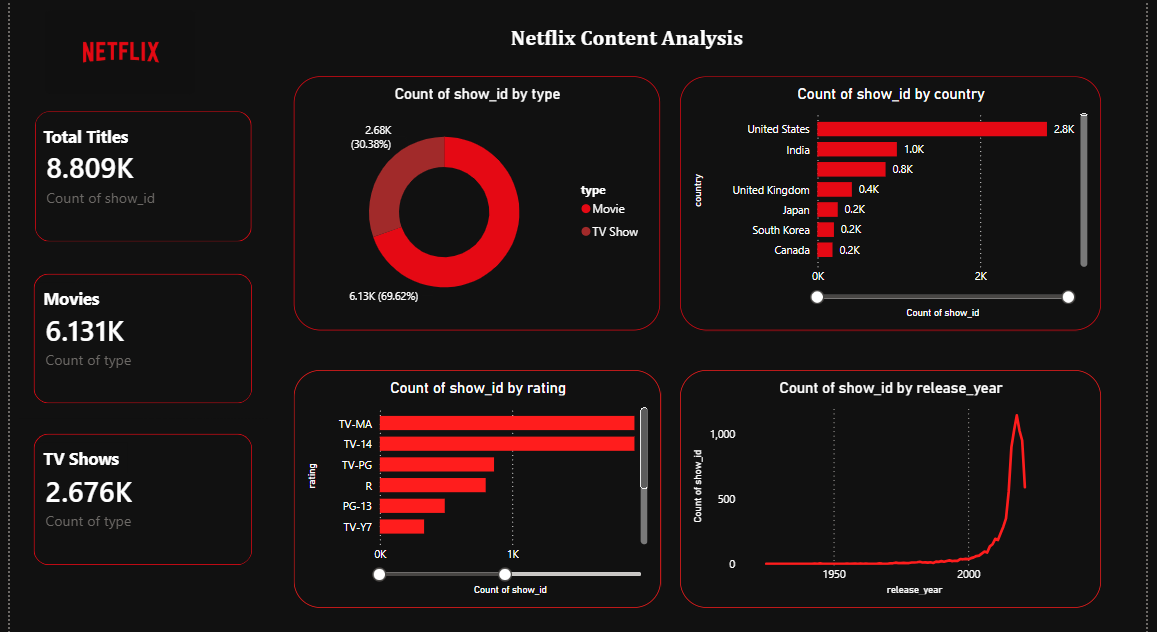

The page's visual inventory and layout, read from the dashboard file:
{"tool":"powerbi","page":{"name":"Page 1","canvas":[1280,720],"ordinal":0},"visuals":[{"type":"cardVisual","fields":{"Data":["CountNonNull(netflix_titles.show_id)"]},"box":[10.1,107.1,281,184],"z":0},{"type":"cardVisual","fields":{"Data":["CountNonNull(netflix_titles.type)"]},"box":[10.1,291,281,180.3],"z":1000},{"type":"cardVisual","fields":{"Data":["CountNonNull(netflix_titles.type)"]},"box":[10.1,471.3,281,182.1],"z":2000},{"type":"donutChart","fields":{"Category":["netflix_titles.type"],"Y":["CountNonNull(netflix_titles.show_id)"]},"box":[320.2,86.5,412.5,286.5],"z":3000},{"type":"clusteredBarChart","fields":{"Category":["netflix_titles.country"],"Y":["CountNonNull(netflix_titles.show_id)"]},"box":[754.8,86.5,474,286.5],"z":4000},{"type":"barChart","fields":{"Category":["netflix_titles.rating"],"Y":["CountNonNull(netflix_titles.show_id)"]},"box":[320.3,416.4,413.7,268.2],"z":5000},{"type":"lineChart","fields":{"Category":["netflix_titles.release_year"],"Y":["CountNonNull(netflix_titles.show_id)"]},"box":[755,416.4,474.1,268.2],"z":6000},{"type":"textbox","box":[545.3,22.1,300,48.4],"z":7000},{"type":"textbox","box":[32.7,318.3,80.8,41.3],"z":9000},{"type":"textbox","box":[32.7,498.1,100,34.6],"z":10000},{"type":"textbox","box":[32.7,136.5,105.8,35.6],"z":11000},{"type":"image","box":[32.7,11.5,184.6,95.2],"z":12000}]}

Visuals, with their boxes in screenshot pixels (x1, y1, x2, y2), scaled from the page's 1280x720 canvas onto the 1157x632 screenshot:
cardVisual - CountNonNull(netflix_titles.show_id): region(9, 94, 263, 256)
cardVisual - CountNonNull(netflix_titles.type): region(9, 255, 263, 414)
cardVisual - CountNonNull(netflix_titles.type): region(9, 414, 263, 574)
donutChart - netflix_titles.type x CountNonNull(netflix_titles.show_id): region(289, 76, 662, 327)
clusteredBarChart - netflix_titles.country x CountNonNull(netflix_titles.show_id): region(682, 76, 1111, 327)
barChart - netflix_titles.rating x CountNonNull(netflix_titles.show_id): region(290, 366, 663, 601)
lineChart - netflix_titles.release_year x CountNonNull(netflix_titles.show_id): region(682, 366, 1111, 601)
textbox: region(493, 19, 764, 62)
textbox: region(30, 279, 103, 316)
textbox: region(30, 437, 120, 468)
textbox: region(30, 120, 125, 151)
image: region(30, 10, 196, 94)
